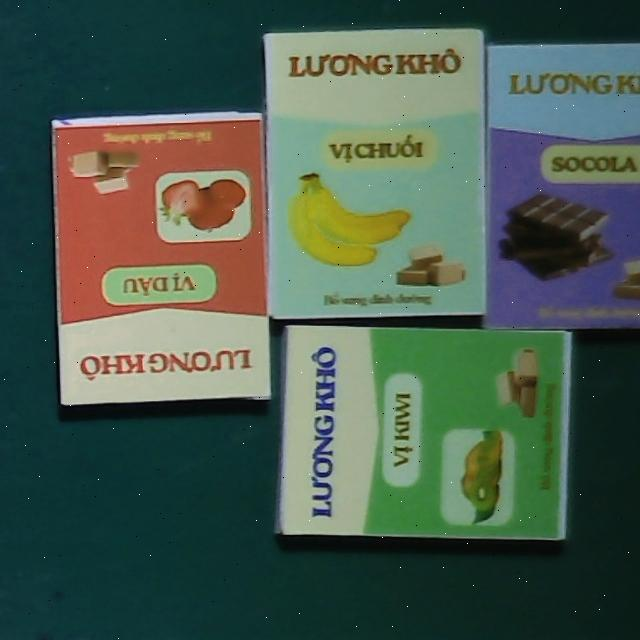chuoi: (265, 27, 488, 318)
dau: (52, 112, 268, 406)
kiwi: (276, 324, 571, 542)
socola: (486, 43, 639, 327)
